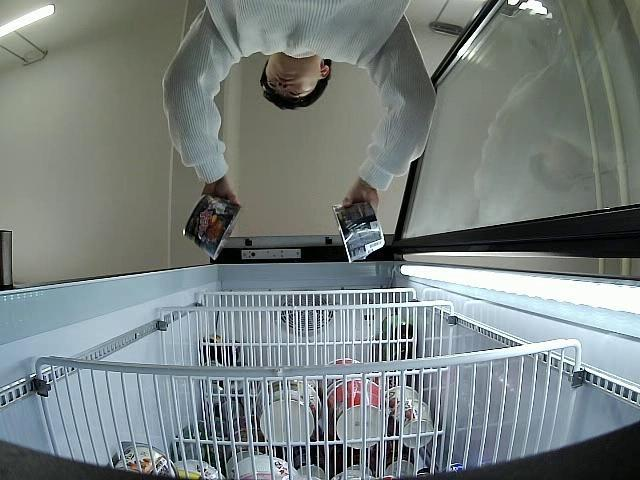07_buldak_L: (182, 193, 241, 260), (333, 202, 386, 267)
